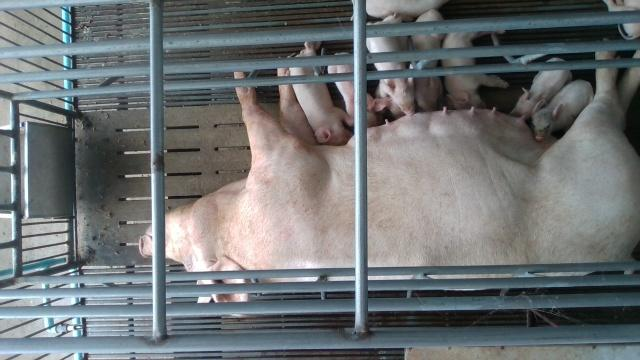piglet: (287, 40, 352, 145), (441, 28, 508, 110), (366, 14, 418, 117), (328, 51, 388, 128), (506, 57, 575, 121), (529, 78, 595, 144), (413, 8, 445, 111), (351, 0, 448, 18), (602, 0, 640, 41)
sow-sleep-lactate: (138, 52, 640, 302)
